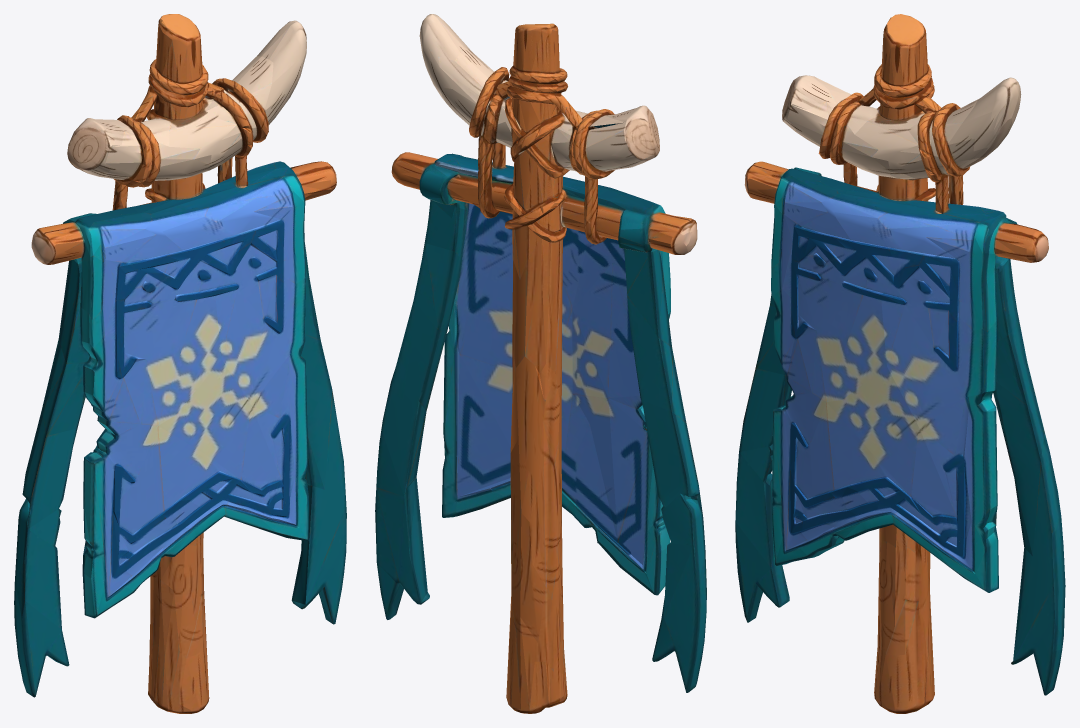
Rendered from flag.glb.
3 renders of one model, left to right at view 1: azimuth 30°, elevation 25°; view 2: azimuth 150°, elevation 25°; view 3: azimuth 330°, elevation 25°, orthographic.
Parts seen in each view (by area): view 1: output_unwrapped; view 2: output_unwrapped; view 3: output_unwrapped.
Boxes of the visible parts, box(x1,y1,x2,y2) form: output_unwrapped: box(14, 14, 346, 713); output_unwrapped: box(375, 14, 706, 713); output_unwrapped: box(735, 14, 1065, 713).
Bounding box in the file's own units: 0.9372 × 1.9 × 0.2385.
Materials: 1 (1 with a texture image).
